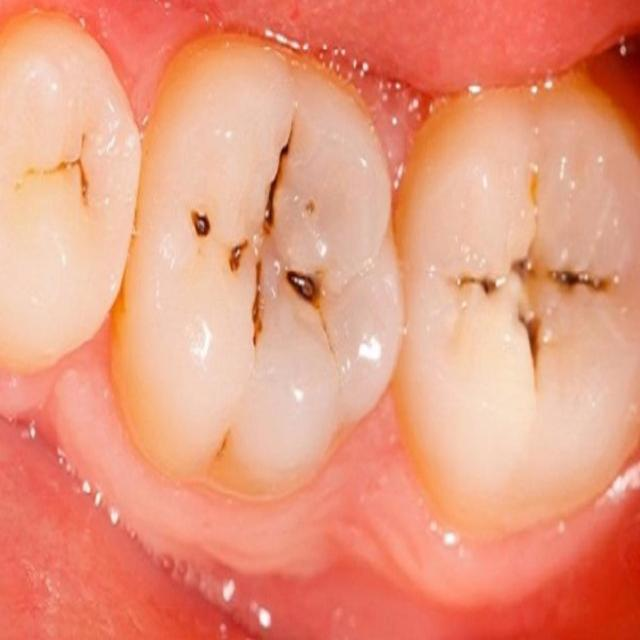Caries: (263, 122, 293, 241), (516, 307, 542, 392), (546, 269, 611, 294), (510, 238, 541, 287), (285, 270, 323, 308), (250, 258, 263, 348), (454, 275, 498, 295), (71, 158, 89, 199), (228, 238, 249, 273), (190, 210, 212, 238)
Tooth: (112, 30, 409, 499), (389, 69, 639, 543), (0, 8, 143, 369)
